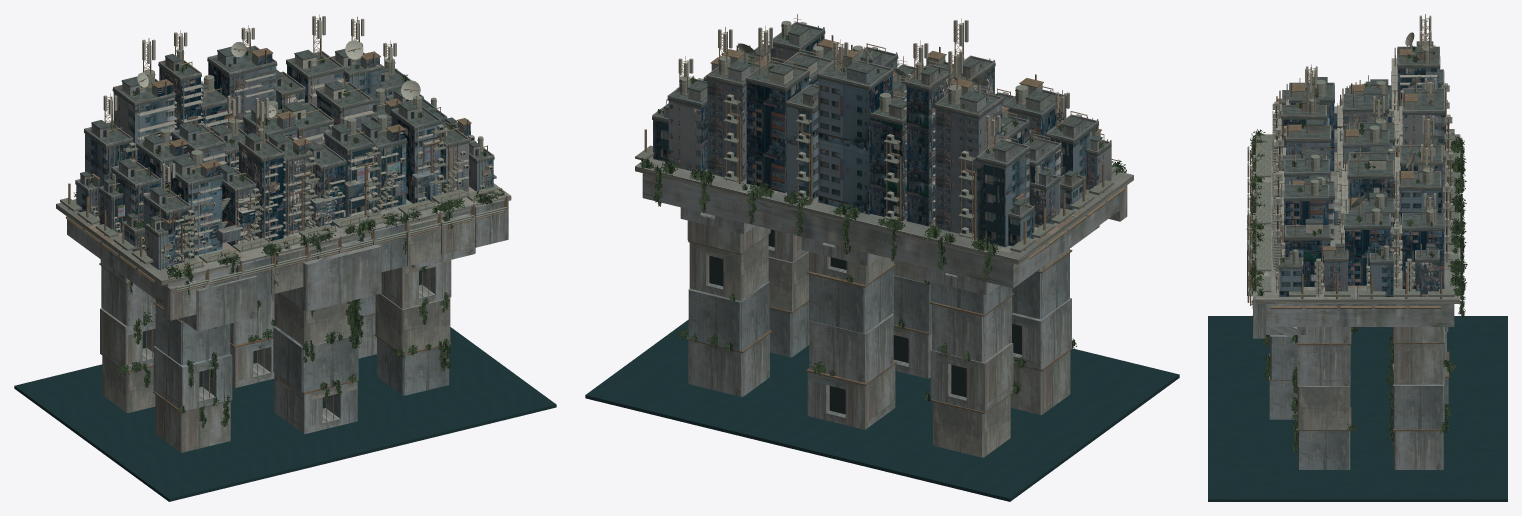
The model's file is urban_pier.glb.
3 views of the same model, side by side, from view 1: azimuth 30°, elevation 25°; view 2: azimuth 150°, elevation 25°; view 3: azimuth 270°, elevation 25° (orthographic). The views are drawn at different scales.
Parts seen in each view (by area): view 1: piers_0, water_4, city_facades_6, structure_0, roofs_2, infrastructure_2, vegetation_3, equipment_2, roofs_0, balconies_0, equipment_0, walkways_2 (+11 smaller); view 2: piers_0, city_facades_6, water_4, structure_0, roofs_2, vegetation_3, roofs_0, equipment_2, infrastructure_2, equipment_0, antennas_2, piers_5 (+6 smaller); view 3: water_4, piers_0, city_facades_6, structure_0, roofs_2, vegetation_3, infrastructure_2, roofs_0, equipment_2, walkways_2, balconies_0, service_frames_2 (+8 smaller).
Boxes of the visible parts, x1=… form: piers_0: x1=100, y1=259, x2=451, y2=452; water_4: x1=14, y1=327, x2=556, y2=501; city_facades_6: x1=76, y1=62, x2=493, y2=269; structure_0: x1=56, y1=183, x2=511, y2=331; roofs_2: x1=75, y1=48, x2=494, y2=237; infrastructure_2: x1=65, y1=17, x2=507, y2=292; vegetation_3: x1=74, y1=51, x2=504, y2=427; equipment_2: x1=80, y1=42, x2=493, y2=263; roofs_0: x1=75, y1=45, x2=494, y2=235; balconies_0: x1=136, y1=73, x2=468, y2=260; equipment_0: x1=80, y1=52, x2=479, y2=230; walkways_2: x1=60, y1=174, x2=502, y2=273; piers_0: x1=680, y1=207, x2=1071, y2=457; city_facades_6: x1=653, y1=34, x2=1110, y2=247; water_4: x1=585, y1=319, x2=1179, y2=501; structure_0: x1=635, y1=156, x2=1133, y2=288; roofs_2: x1=652, y1=24, x2=1111, y2=220; vegetation_3: x1=640, y1=35, x2=1126, y2=401; roofs_0: x1=652, y1=22, x2=1111, y2=218; equipment_2: x1=663, y1=20, x2=1102, y2=206; infrastructure_2: x1=644, y1=23, x2=1125, y2=259; equipment_0: x1=664, y1=30, x2=1102, y2=215; antennas_2: x1=678, y1=14, x2=1098, y2=140; piers_5: x1=709, y1=229, x2=1021, y2=414; water_4: x1=1208, y1=316, x2=1507, y2=501; piers_0: x1=1269, y1=327, x2=1448, y2=469; city_facades_6: x1=1279, y1=68, x2=1444, y2=296; structure_0: x1=1247, y1=134, x2=1460, y2=338; roofs_2: x1=1278, y1=48, x2=1445, y2=269; vegetation_3: x1=1246, y1=46, x2=1467, y2=451; infrastructure_2: x1=1247, y1=18, x2=1451, y2=308; roofs_0: x1=1279, y1=46, x2=1445, y2=266; equipment_2: x1=1276, y1=41, x2=1438, y2=288; walkways_2: x1=1255, y1=129, x2=1454, y2=296; balconies_0: x1=1278, y1=58, x2=1437, y2=278; service_frames_2: x1=1272, y1=83, x2=1454, y2=296.
Bounding box in the file's own units: 12.5 × 11.09 × 8.65.
Materials: 7 (6 with a texture image).
